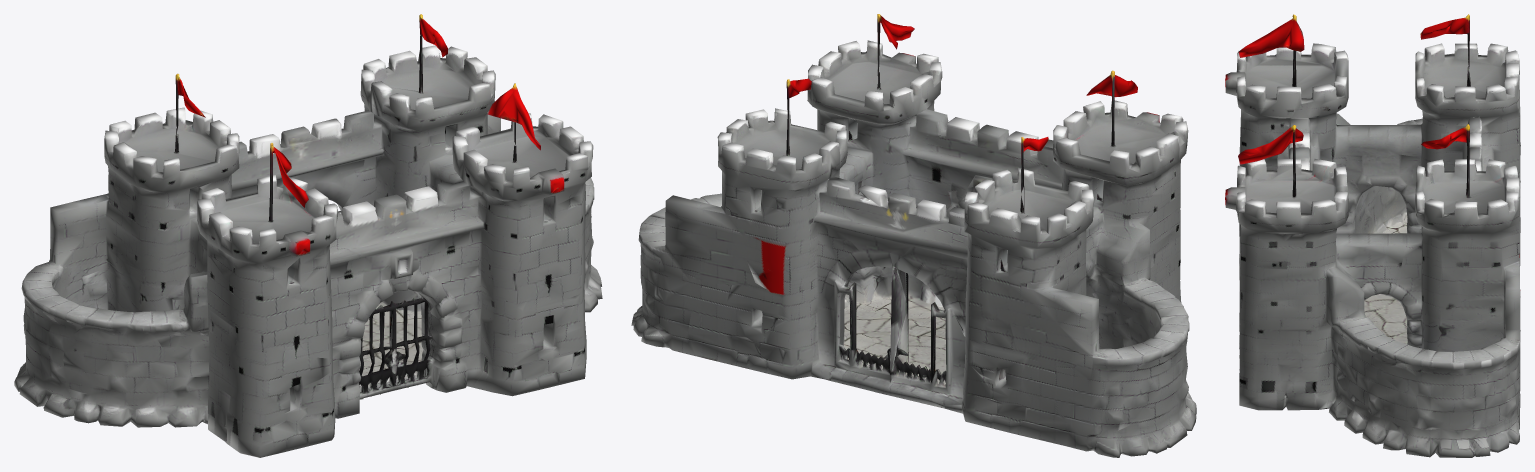
File: act2_gate.glb
3 views of the same model, side by side, from view 1: azimuth 30°, elevation 25°; view 2: azimuth 150°, elevation 25°; view 3: azimuth 270°, elevation 25° (orthographic). The views are drawn at different scales.
Bounding box in the file's own units: 1.91 × 0.9354 × 0.9509.
Materials: 1 (1 with a texture image).
